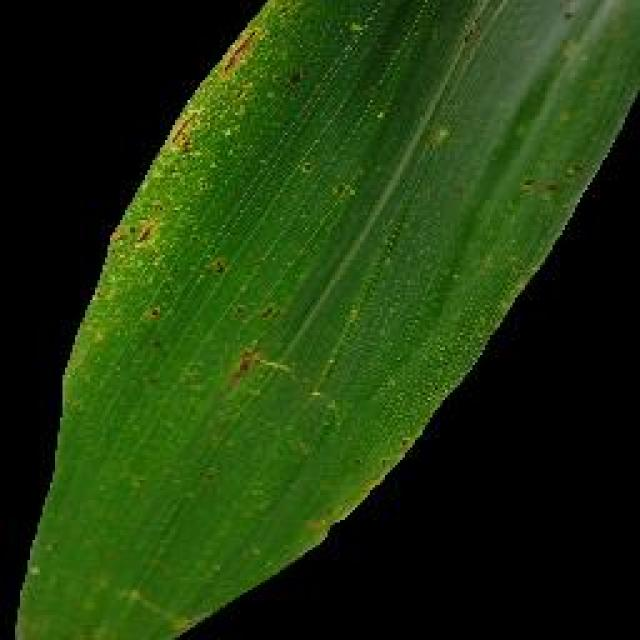Corn Common Rust: (123, 43, 412, 417)
